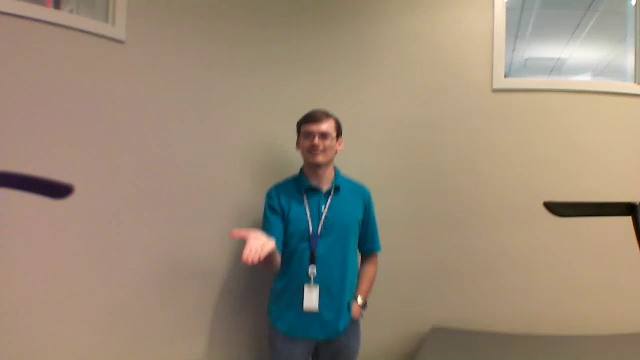land: (223, 223, 287, 266)
